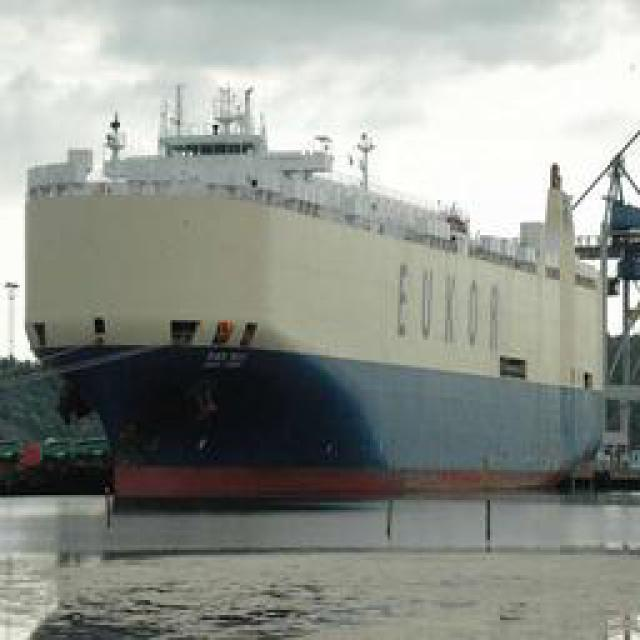Ship: (15, 71, 635, 526)
